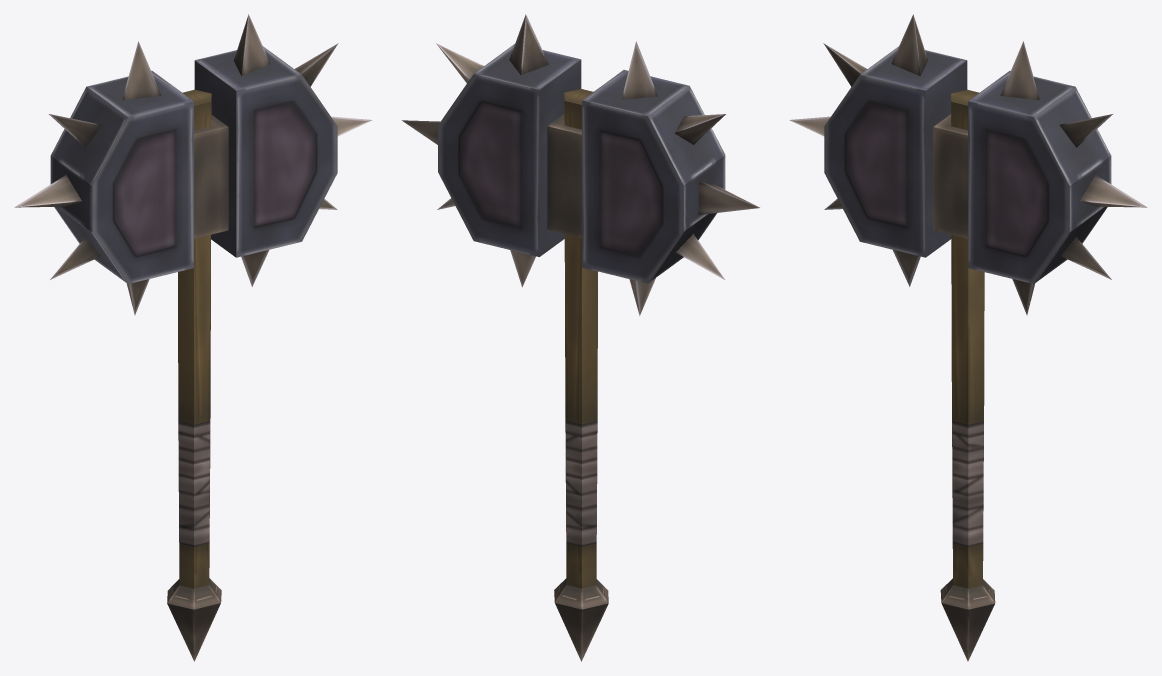
The model's file is battle_hammer_lvl_03.fbx.
3 renders of one model, left to right at view 1: azimuth 30°, elevation 25°; view 2: azimuth 150°, elevation 25°; view 3: azimuth 330°, elevation 25°, orthographic.
Visible parts, largest first — view 1: battle_hammer_lvl_03; view 2: battle_hammer_lvl_03; view 3: battle_hammer_lvl_03.
Part boxes in pixels (left/top/right/bottom): battle_hammer_lvl_03: left=14, top=14, right=372, bottom=661; battle_hammer_lvl_03: left=402, top=14, right=759, bottom=661; battle_hammer_lvl_03: left=789, top=14, right=1147, bottom=661.
Size of the model in its own units: 5.01 by 8.46 by 1.01.
